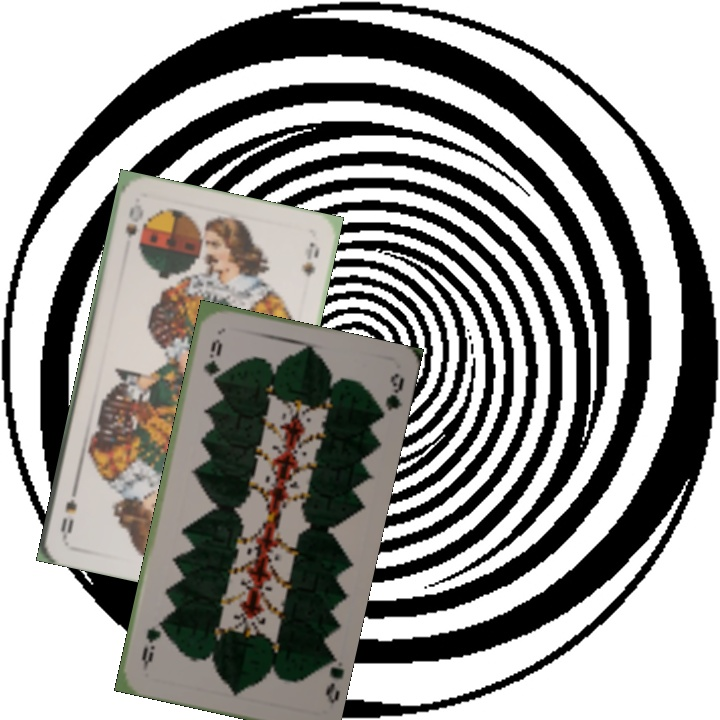G9: (316, 651, 344, 707), (199, 335, 225, 386)
SO: (121, 200, 146, 240)
